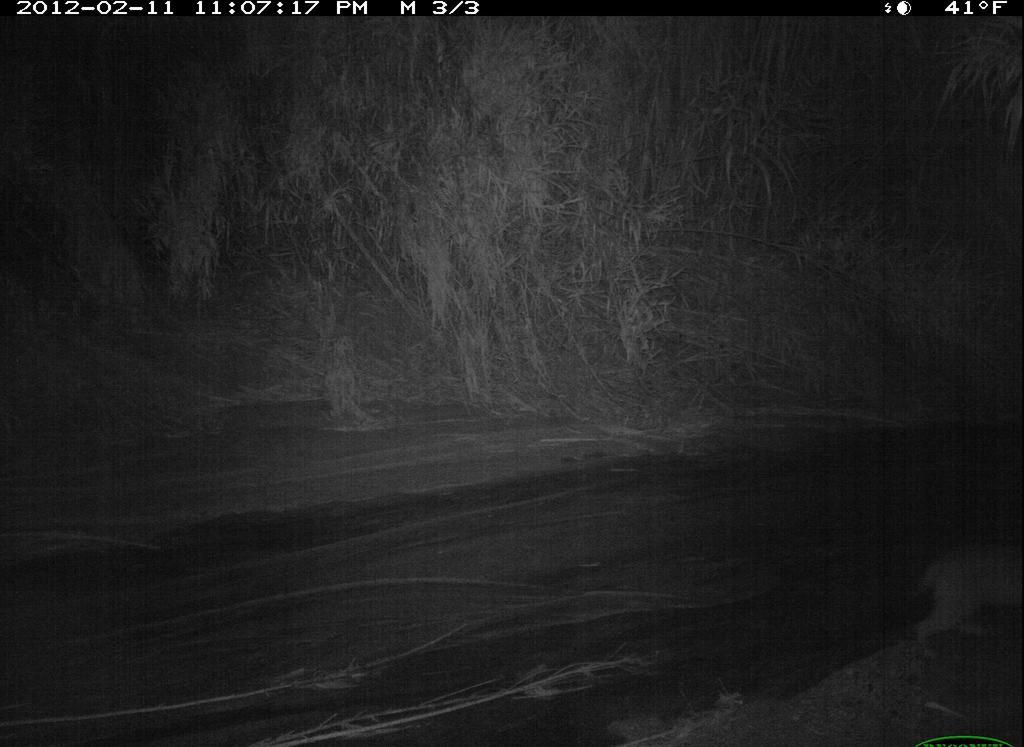bobcat: (900, 523, 1023, 674)
